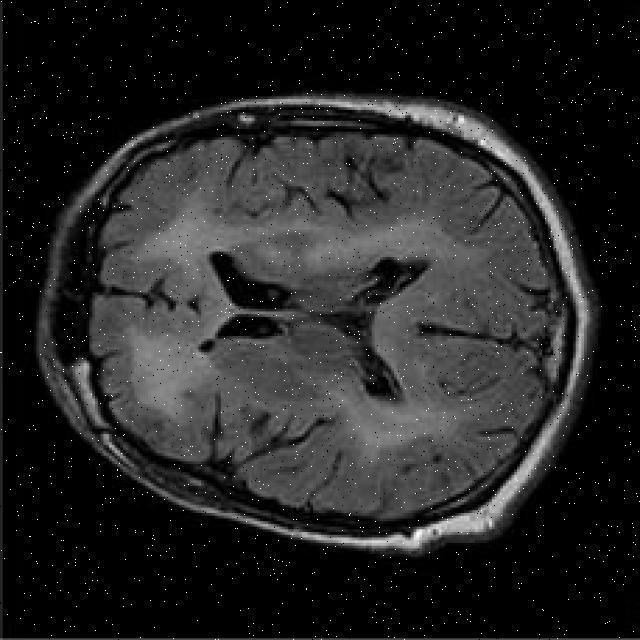No_Tumor: (37, 95, 599, 554)
